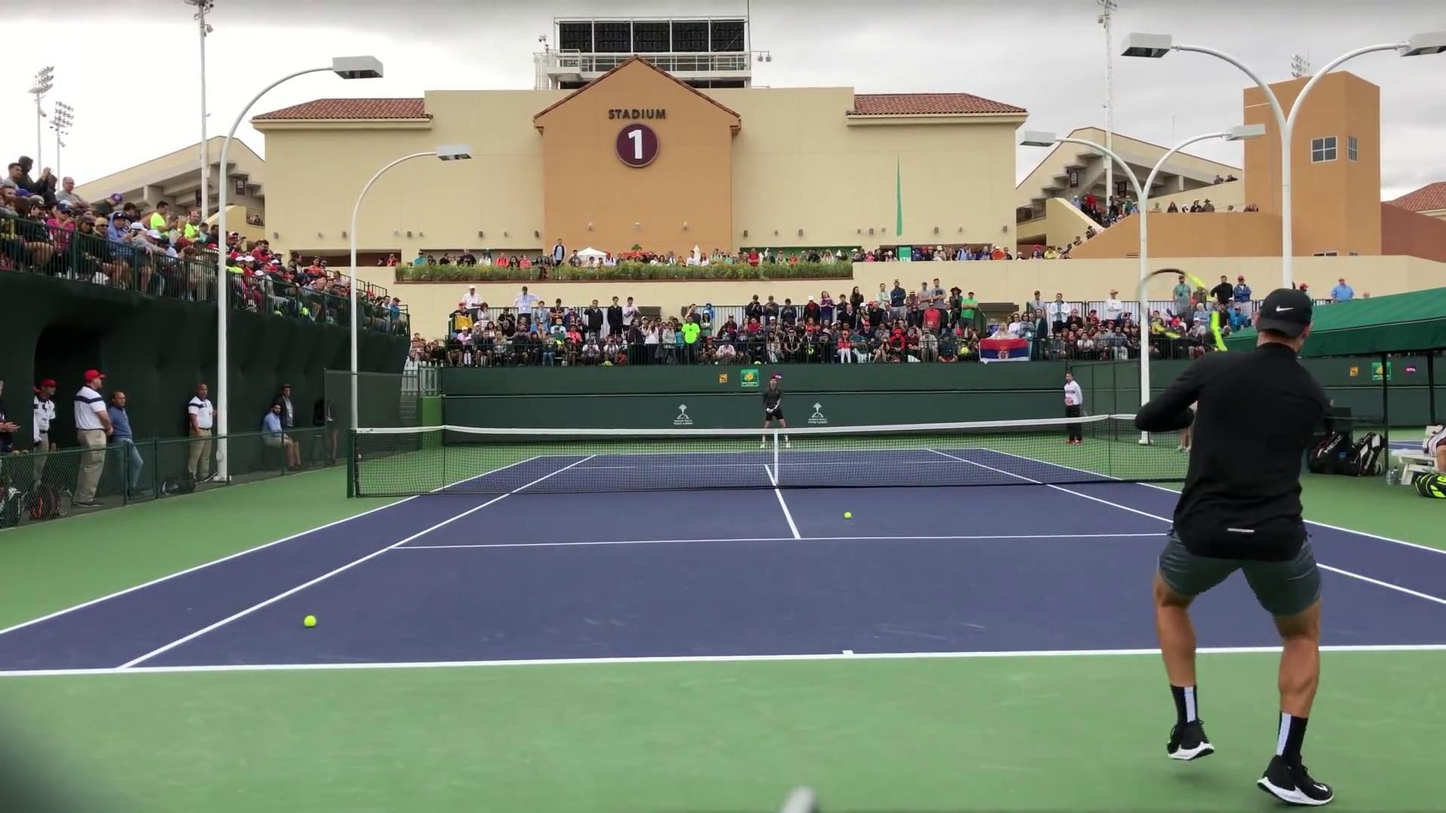ball: (304, 615, 318, 627), (843, 512, 853, 519)
